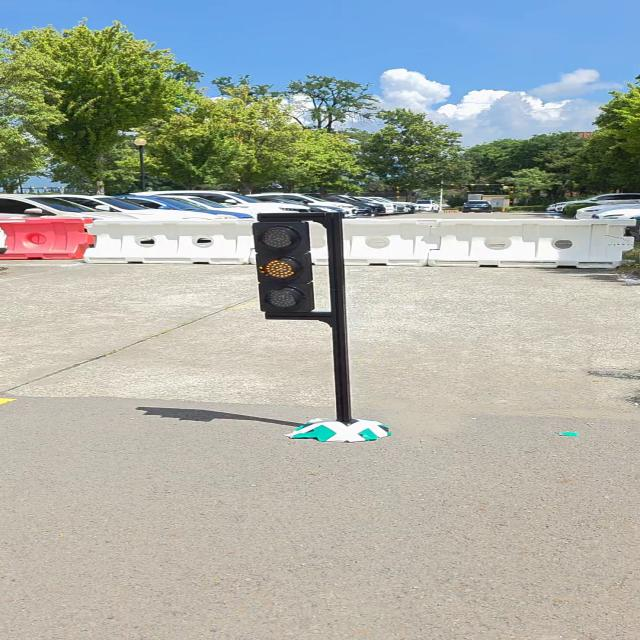yellow: (252, 221, 316, 314)
